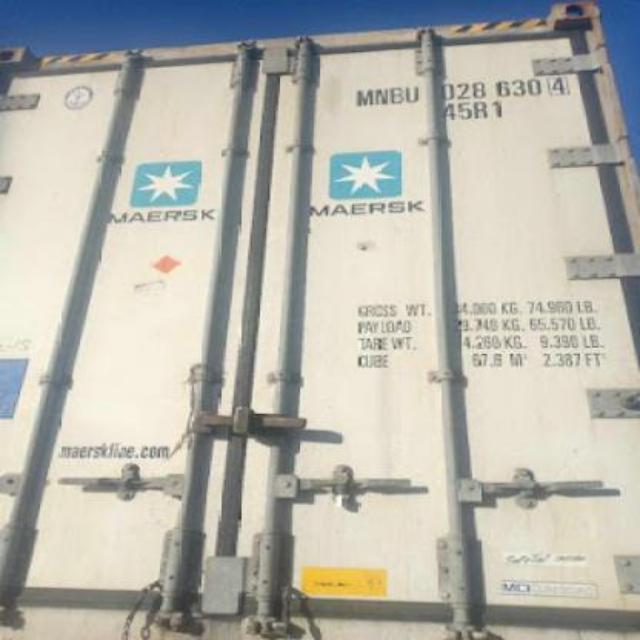0: (524, 73, 546, 97), (438, 78, 456, 102)
2: (456, 76, 472, 100)
3: (512, 74, 526, 98)
4: (548, 74, 570, 98)
6: (494, 74, 510, 98)
8: (470, 78, 488, 102)
B: (390, 81, 402, 111)
M: (352, 85, 373, 109)
N: (372, 83, 390, 107)
U: (402, 80, 422, 106)
